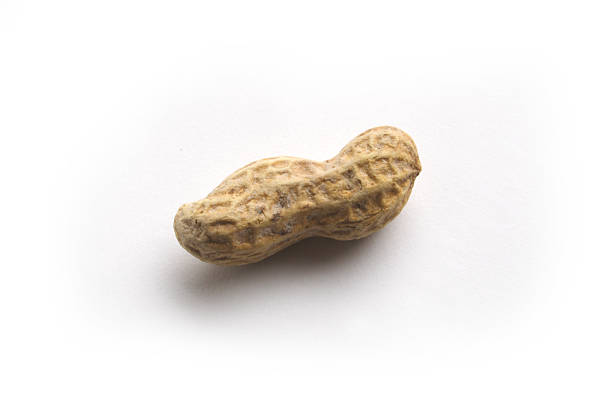kacang2: (154, 101, 464, 282)
